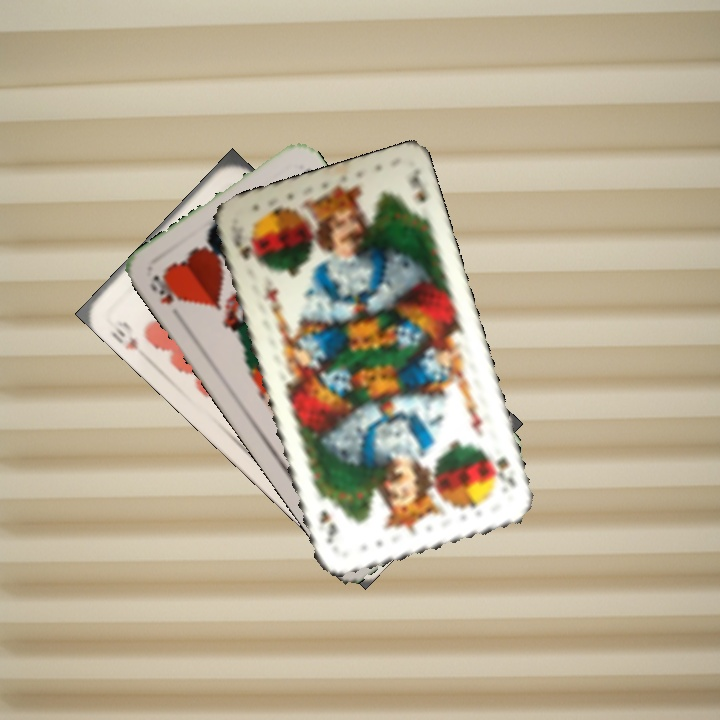H10: (108, 315, 150, 362)
HO: (145, 269, 187, 307)
SK: (485, 451, 519, 490), (229, 229, 259, 267)
